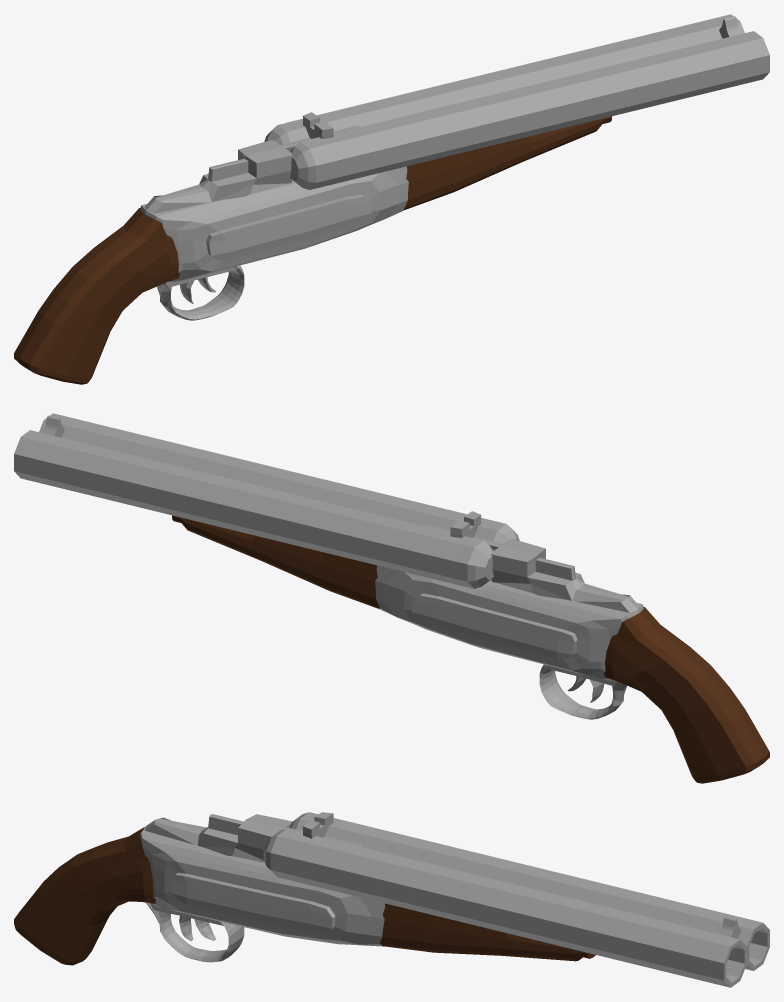
The model's file is ShotgunModifierApplied.fbx.
3 views of the same model, one above another, from view 1: azimuth 30°, elevation 25°; view 2: azimuth 150°, elevation 25°; view 3: azimuth 330°, elevation 25° (orthographic).
Visible parts, largest first — view 1: Barrel1, Gunbase, holder, Barrel2, GunFront, GunBaseTop, TriiggerProtection, BarrelBack.001; view 2: Barrel2, Gunbase, holder, Barrel1, GunFront, GunBaseTop, TriiggerProtection, BarrelBack; view 3: Barrel1, Gunbase, holder, Barrel2, GunFront, GunBaseTop, TriiggerProtection, BarrelBack.001, Aim2, Aim.
Part boxes in pixels (left/top/right/bottom): Barrel1: left=309, top=31, right=769, bottom=187; Gunbase: left=140, top=166, right=408, bottom=281; holder: left=14, top=208, right=179, bottom=384; Barrel2: left=286, top=14, right=744, bottom=139; GunFront: left=404, top=116, right=611, bottom=210; GunBaseTop: left=144, top=126, right=360, bottom=213; TriiggerProtection: left=157, top=265, right=244, bottom=320; BarrelBack.001: left=290, top=139, right=324, bottom=189; Barrel2: left=14, top=430, right=474, bottom=586; Gunbase: left=375, top=565, right=643, bottom=680; holder: left=604, top=607, right=769, bottom=783; Barrel1: left=39, top=413, right=497, bottom=538; GunFront: left=172, top=515, right=379, bottom=609; GunBaseTop: left=423, top=525, right=639, bottom=612; TriiggerProtection: left=539, top=664, right=626, bottom=719; BarrelBack: left=459, top=538, right=493, bottom=588; Barrel1: left=279, top=831, right=746, bottom=987; Gunbase: left=140, top=826, right=385, bottom=946; holder: left=14, top=827, right=155, bottom=965; Barrel2: left=310, top=817, right=769, bottom=970; GunFront: left=379, top=903, right=595, bottom=961; GunBaseTop: left=144, top=814, right=361, bottom=863; TriiggerProtection: left=146, top=902, right=244, bottom=962; BarrelBack.001: left=263, top=829, right=294, bottom=879; Aim2: left=302, top=812, right=333, bottom=838; Aim: left=719, top=916, right=741, bottom=938.
Size of the model in its own units: 462 by 122 by 50.43.
